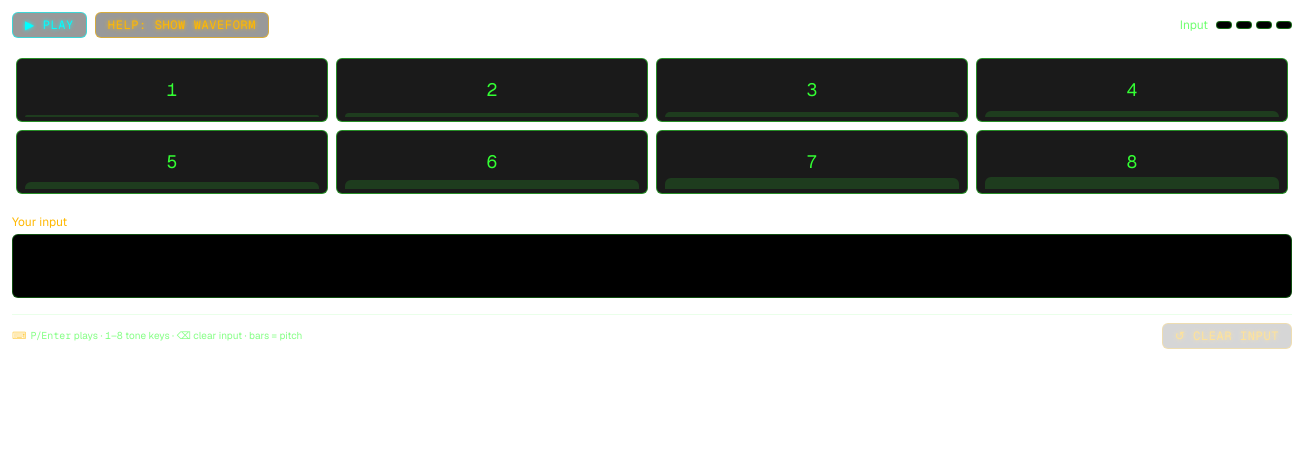
Test: #8 tones: the waveform help already reveals every tone › the MCP hint (incl. the first tone) is redundant while the help is open
Click the button "Help: show waveform": [182, 25] box [95,12,269,38]
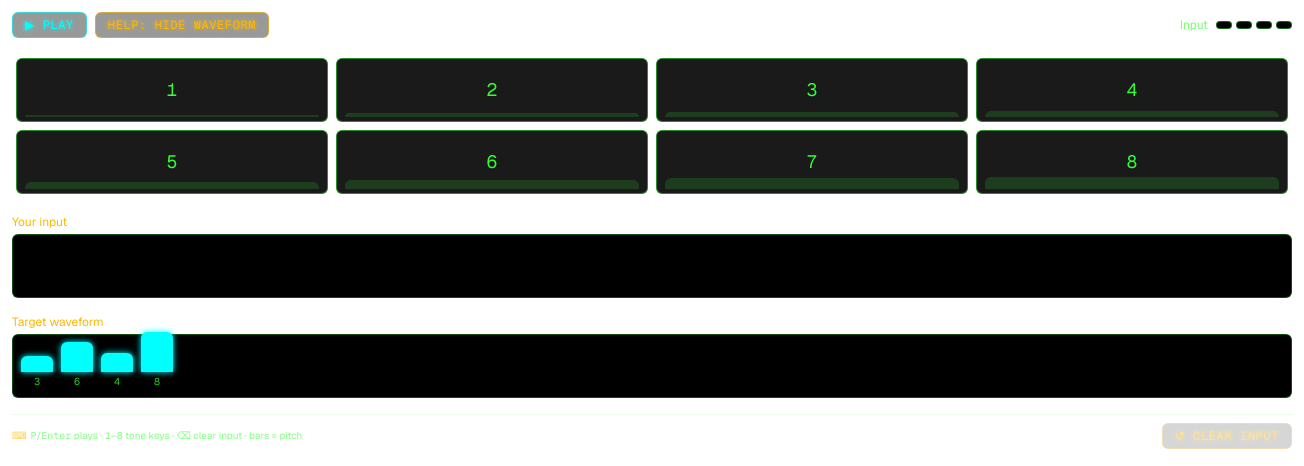
Expected: the element named "Target waveform: 3, 6, 4, 8" is shown, [12,334,1292,398]
